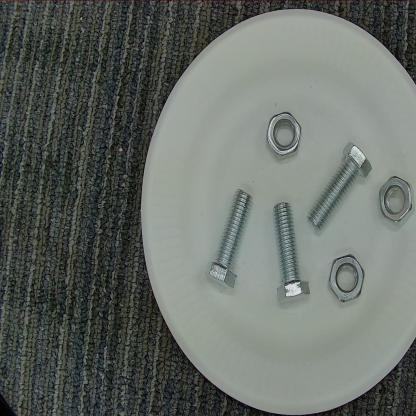FOD: (307, 134, 374, 242), (263, 190, 316, 312), (201, 178, 252, 300), (324, 249, 368, 311), (375, 166, 415, 231), (262, 105, 305, 164)
